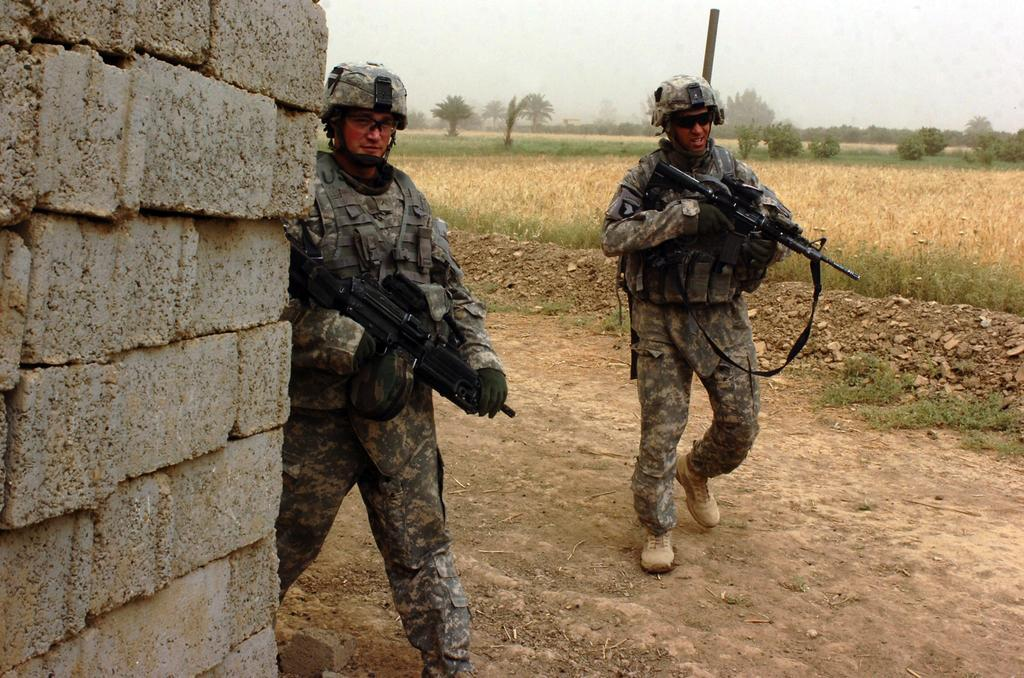gun: (288, 238, 515, 418), (661, 160, 860, 278)
